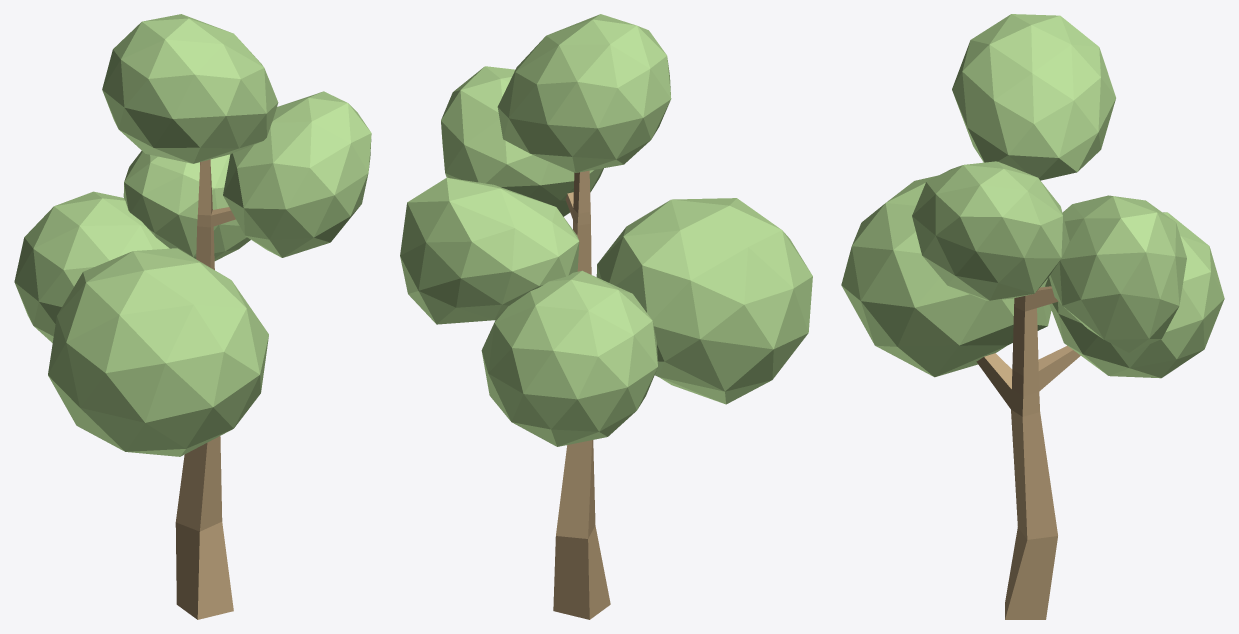
Rendered from OakTree2.Light2.fbx.
3 views of the same model, side by side, from view 1: azimuth 30°, elevation 25°; view 2: azimuth 150°, elevation 25°; view 3: azimuth 270°, elevation 25° (orthographic). The views are drawn at different scales.
Visible parts, largest first — view 1: OakTree2; view 2: OakTree2; view 3: OakTree2.
Boxes of the visible parts, x1,y1,x2,y2 form: OakTree2: (14,14,371,619); OakTree2: (400,14,812,619); OakTree2: (841,14,1224,619).
Size of the model in its own units: 427 by 763 by 458.
